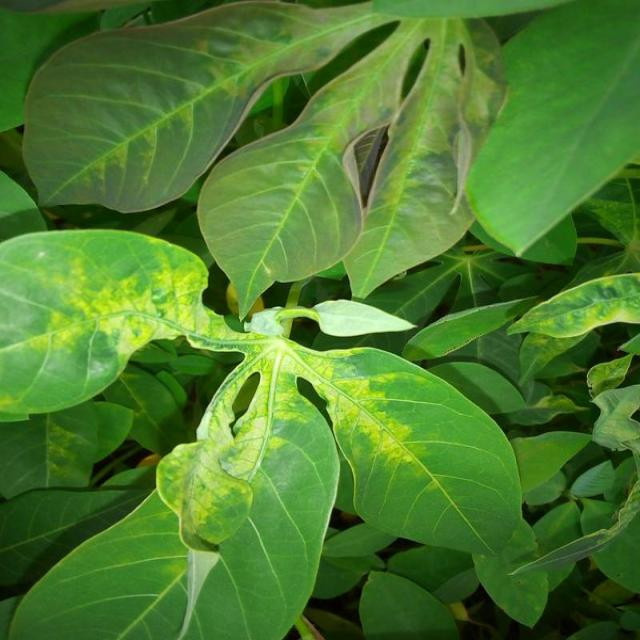cassava leaf: (1, 0, 638, 637), (6, 364, 340, 639), (20, 0, 397, 213), (464, 0, 638, 265), (0, 226, 210, 423)
